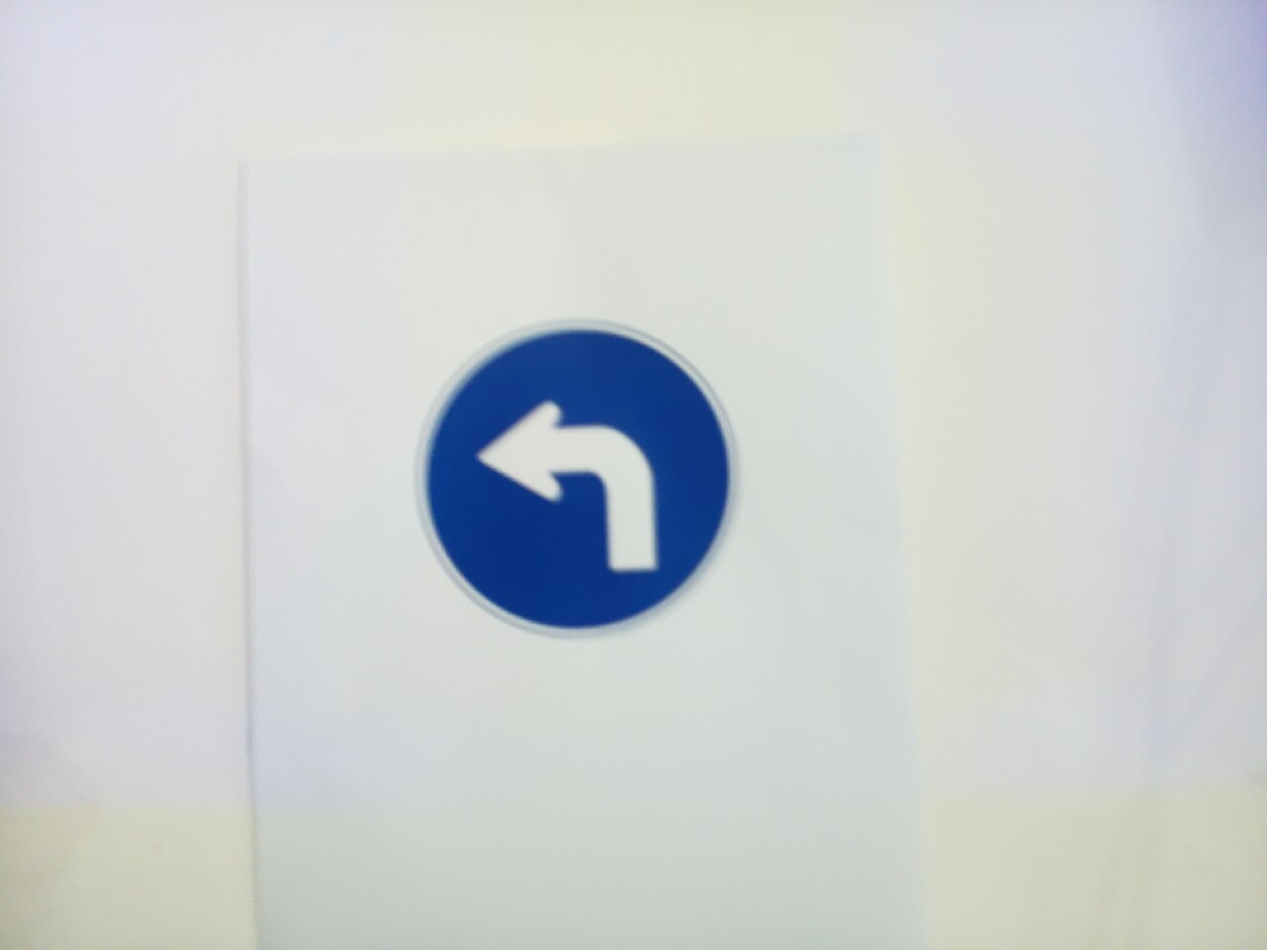left_turn: (471, 394, 663, 578)
